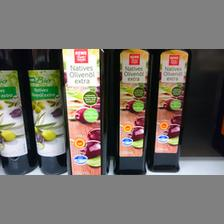Oel: (60, 47, 108, 172), (25, 47, 67, 172), (110, 48, 150, 174), (149, 48, 189, 172), (0, 47, 36, 172)
